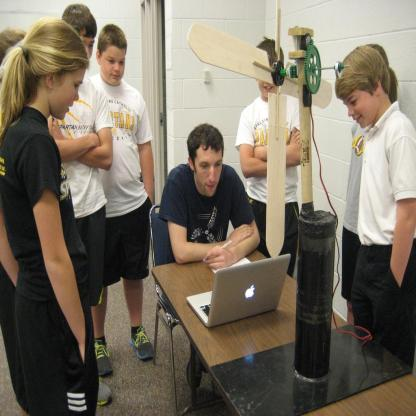board: (185, 251, 292, 328)
